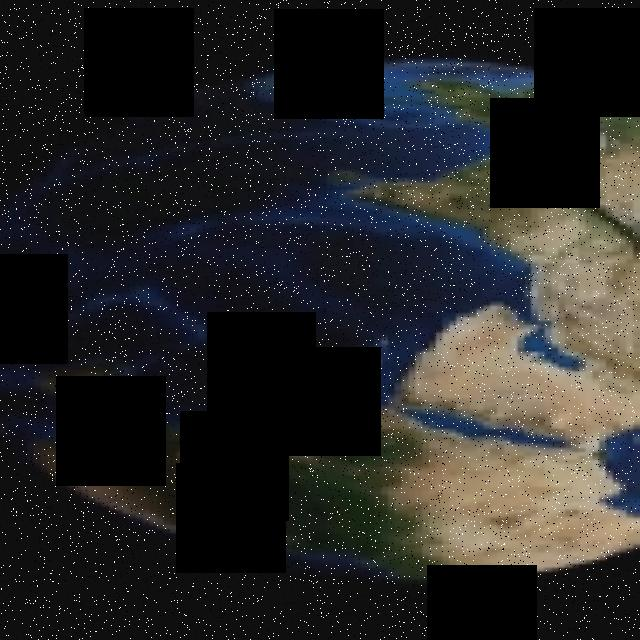Earth: (0, 50, 640, 582)
